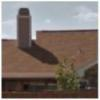chimneys: (16, 8, 33, 48)
